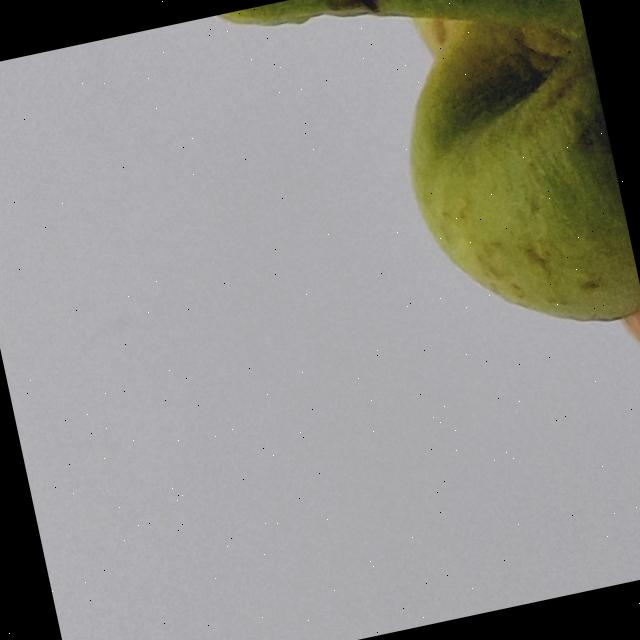mangosteen: (170, 0, 640, 640)
